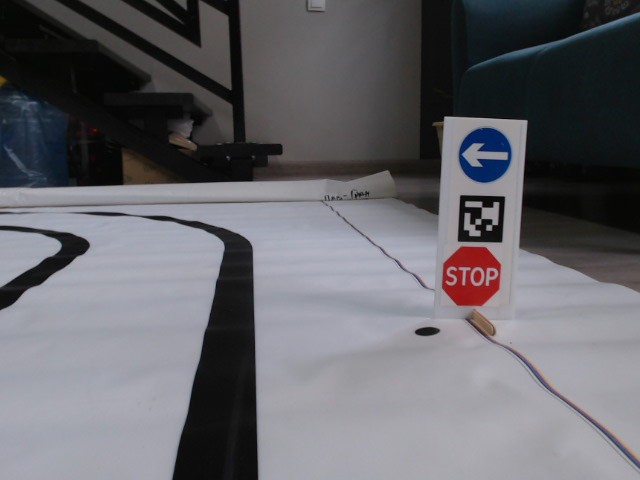Stop: (444, 244, 501, 306)
